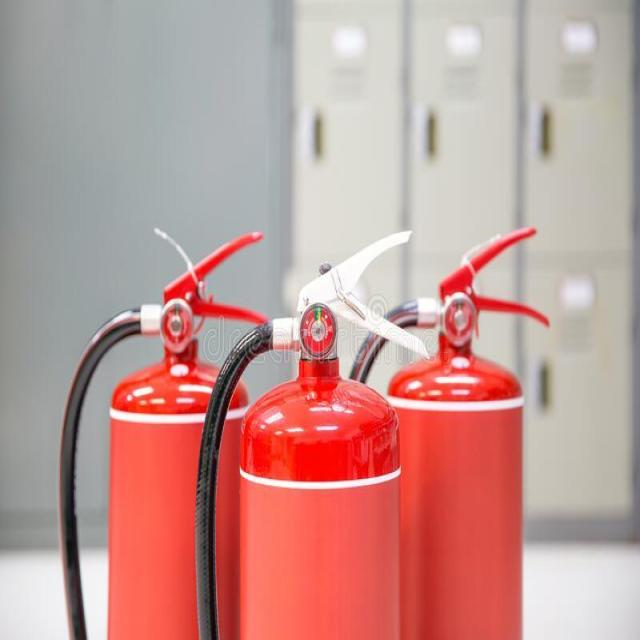fire_extinguisher: (190, 224, 436, 639), (52, 226, 281, 639), (338, 221, 553, 639)
